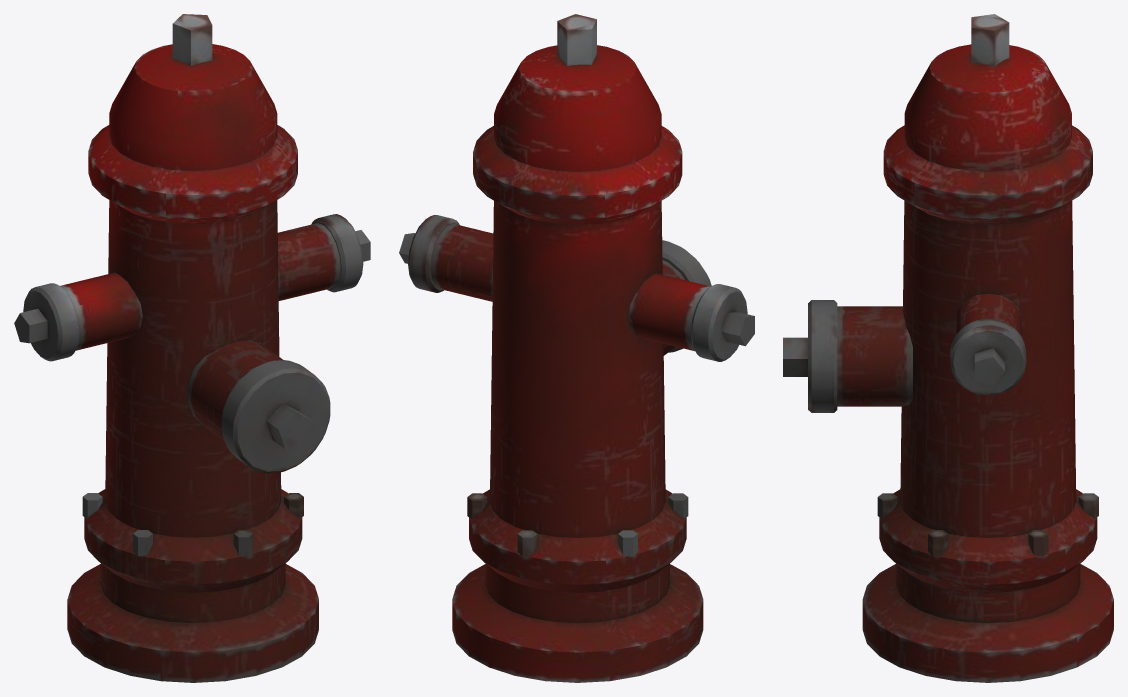
The model's file is fire_hydrant.glb.
3 renders of one model, left to right at view 1: azimuth 30°, elevation 25°; view 2: azimuth 150°, elevation 25°; view 3: azimuth 270°, elevation 25°, orthographic.
Parts seen in each view (by area): view 1: fire_hydrant; view 2: fire_hydrant; view 3: fire_hydrant.
Boxes of the visible parts, left/top/right/bottom form: fire_hydrant: left=14, top=14, right=370, bottom=682; fire_hydrant: left=399, top=14, right=754, bottom=682; fire_hydrant: left=783, top=14, right=1113, bottom=682.
Size of what is drawn, in the model's own units: 0.47 by 0.8 by 0.395.
1 material, 1 textured.
